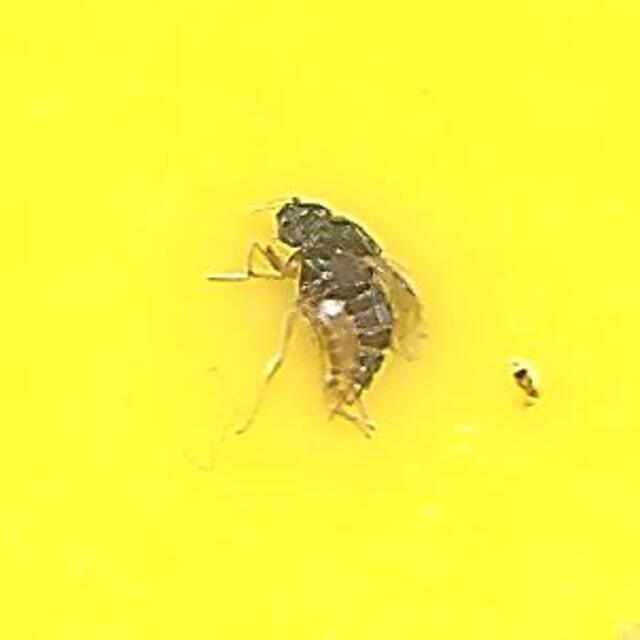Brachycera: (212, 201, 428, 439)
